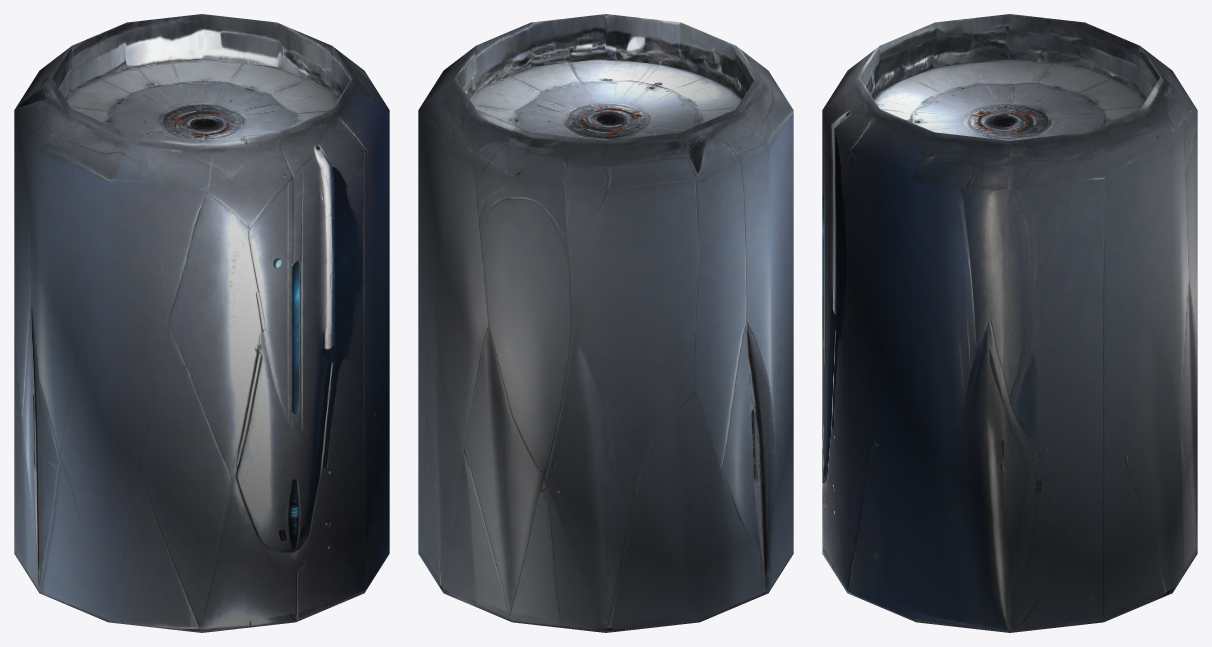
File: _0609194505_texture.fbx
3 views of the same model, side by side, from view 1: azimuth 30°, elevation 25°; view 2: azimuth 150°, elevation 25°; view 3: azimuth 270°, elevation 25° (orthographic).
Parts seen in each view (by area): view 1: Mesh_0; view 2: Mesh_0; view 3: Mesh_0.
Part boxes in pixels (x1,y1,x2,y2): Mesh_0: (14,14,389,632); Mesh_0: (418,14,793,632); Mesh_0: (822,14,1197,632).
Size of the model in its own units: 143 by 200 by 143.
Materials: 1 (1 with a texture image).
